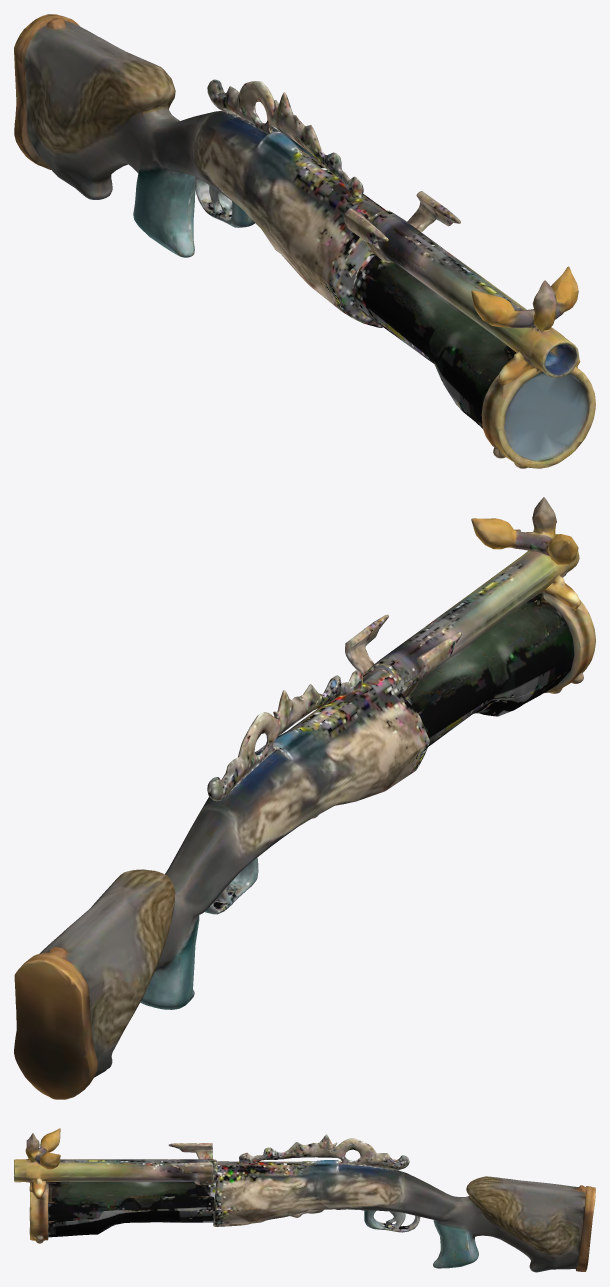
The model's file is prop_tomoe_shotgun.glb.
3 views of the same model, one above another, from view 1: azimuth 30°, elevation 25°; view 2: azimuth 150°, elevation 25°; view 3: azimuth 270°, elevation 25° (orthographic). The views are drawn at different scales.
Parts seen in each view (by area): view 1: geometry_0; view 2: geometry_0; view 3: geometry_0.
Part boxes in pixels (x1,y1,x2,y2): geometry_0: (14,14,595,468); geometry_0: (14,497,595,1099); geometry_0: (14,1128,595,1272).
Size of the model in its own units: 0.1119 by 0.2611 by 1.
1 material, 1 textured.
